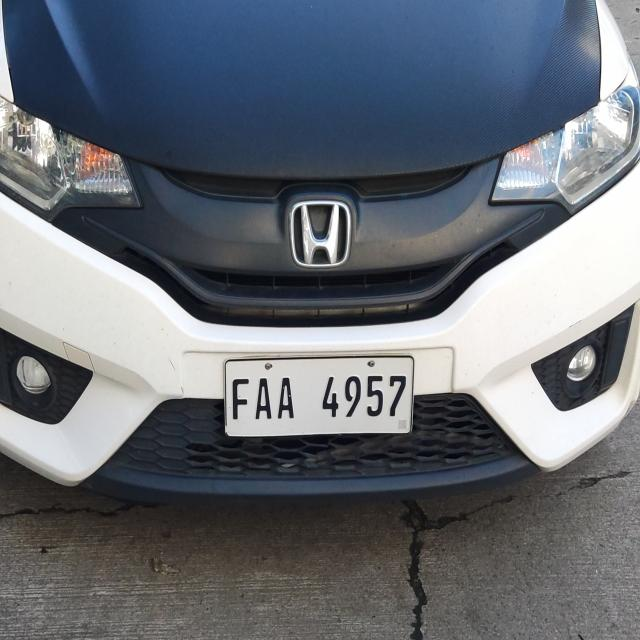plate: (221, 350, 417, 441)
